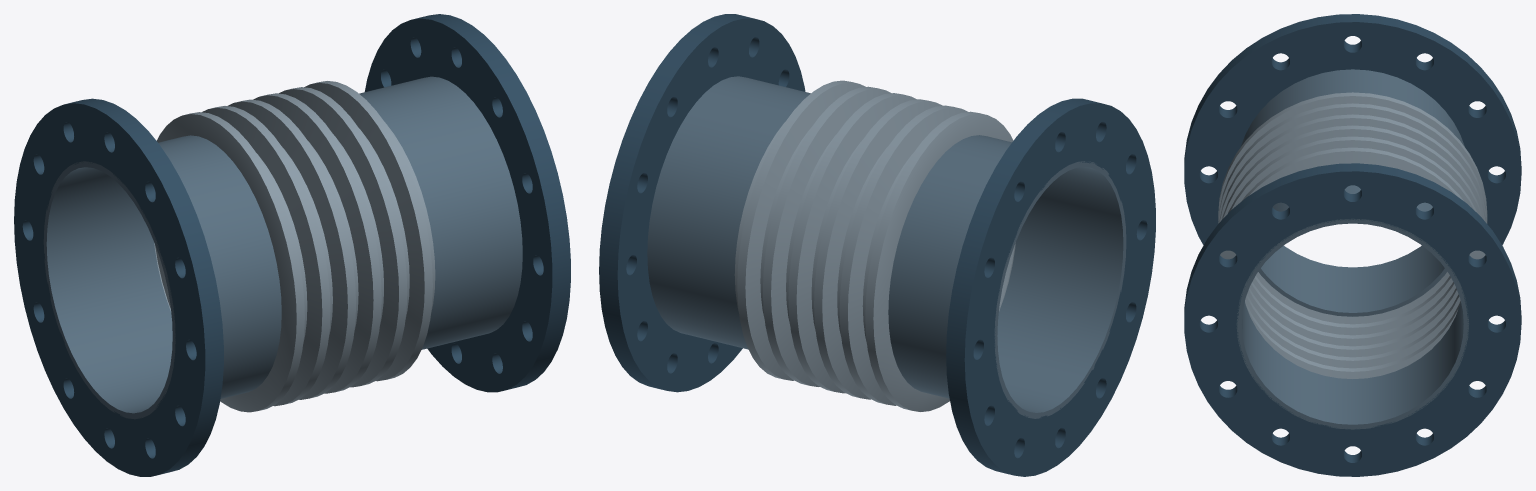
The model's file is flan-dn300-L520-D325-f.glb.
3 views of the same model, side by side, from view 1: azimuth 30°, elevation 25°; view 2: azimuth 150°, elevation 25°; view 3: azimuth 270°, elevation 25° (orthographic). The views are drawn at different scales.
Parts seen in each view (by area): view 1: prokladka_silfon_1, patrubok_1, homut_flanec_1, homut_flanec_2, patrubok_2; view 2: prokladka_silfon_1, patrubok_1, homut_flanec_1, homut_flanec_2, patrubok_2; view 3: homut_flanec_2, prokladka_silfon_1, homut_flanec_1, patrubok_2, patrubok_1.
Boxes of the visible parts, x1,y1,x2,y2 form: prokladka_silfon_1: (154,81,435,412); patrubok_1: (43,135,281,419); homut_flanec_1: (14,98,223,476); homut_flanec_2: (364,14,570,392); patrubok_2: (359,76,522,349); prokladka_silfon_1: (734,80,1015,411); patrubok_1: (888,135,1126,418); homut_flanec_1: (946,98,1155,476); homut_flanec_2: (599,14,805,392); patrubok_2: (647,76,810,349); homut_flanec_2: (1184,163,1521,476); prokladka_silfon_1: (1218,92,1487,378); homut_flanec_1: (1184,14,1521,244); patrubok_2: (1236,185,1468,429); patrubok_1: (1240,69,1464,316).
Bounding box in the file's own units: 520 × 471 × 471.
